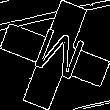M_S: (25, 24, 85, 86)
